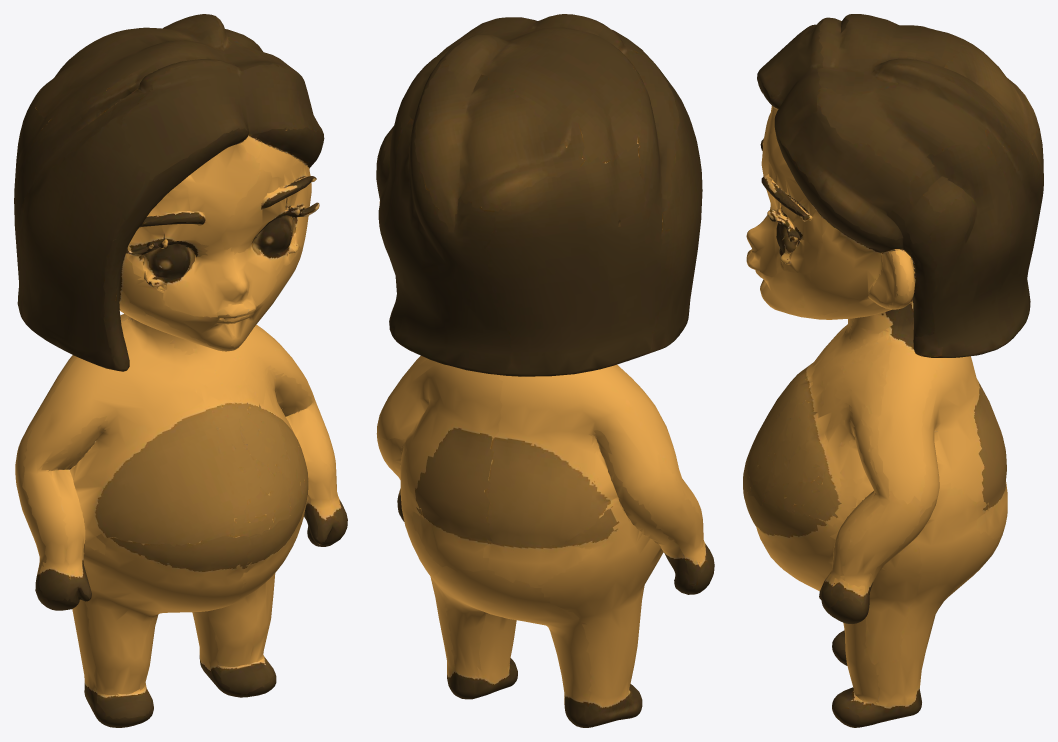
The model's file is naiwa_dounai_runtime.glb.
3 views of the same model, side by side, from view 1: azimuth 30°, elevation 25°; view 2: azimuth 150°, elevation 25°; view 3: azimuth 270°, elevation 25° (orthographic). The views are drawn at different scales.
Parts seen in each view (by area): view 1: geometry_0; view 2: geometry_0; view 3: geometry_0.
Boxes of the visible parts, x1,y1,x2,y2 form: geometry_0: [14, 14, 347, 727]; geometry_0: [376, 14, 714, 727]; geometry_0: [743, 14, 1043, 727].
Size of the model in its own units: 0.0582 by 0.12 by 0.05.
1 material, 1 textured.
